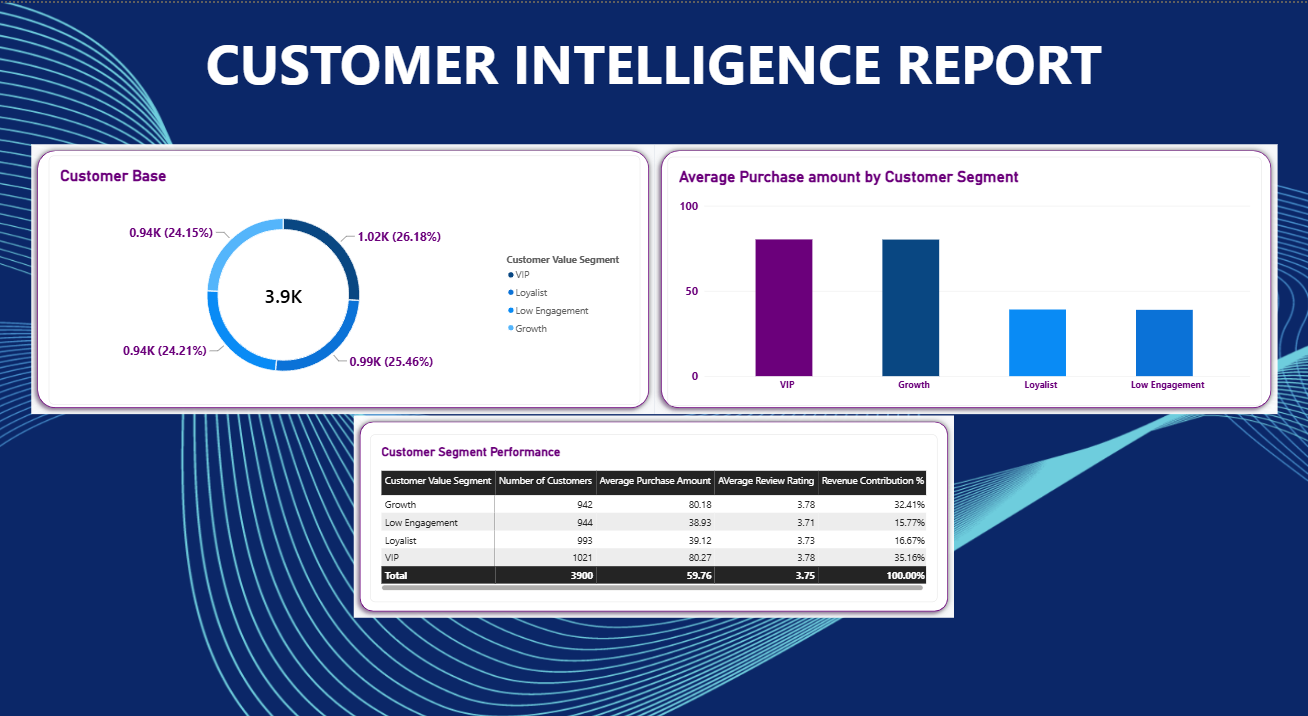

This screenshot's page, from the dashboard's own definition file:
{"tool":"powerbi","page":{"name":"Customer Intelligence","canvas":[1920,1080],"ordinal":1},"visuals":[{"type":"textbox","box":[0,32.5,1919.6,147.2],"z":1000},{"type":"shape","box":[960.9,207.8,913.3,396],"z":2000},{"type":"shape","box":[45.4,207.8,915.4,396],"z":4000},{"type":"clusteredColumnChart","title":"Average Purchase amount by Customer Segment","fields":{"Category":["public customer.Customer Value Segment"],"Y":["Avg(public customer.purchase_amount)"]},"box":[980.4,225.1,872.1,365.7],"z":5000},{"type":"shape","box":[519.4,606,880.8,296.5],"z":6000},{"type":"pivotTable","title":"Customer Segment Performance","fields":{"Rows":["public customer.Customer Value Segment"],"Values":["public customer.Number of Customers","public customer.Average Purchase Amount","public customer.AVerage Review Rating","public customer.Revenue Contribution %"]},"box":[543.2,631.9,833.2,246.7],"z":7000},{"type":"donutChart","title":"Customer Base","fields":{"Category":["public customer.Customer Value Segment"],"Y":["CountNonNull(public customer.customer_id)"]},"box":[71.4,222.9,867.8,365.7],"z":7001}]}

Visuals, with their boxes in screenshot pixels (x1, y1, x2, y2), scaled from the page's 1920x1080 canvas onto the 1308x716 screenshot:
textbox: left=0, top=22, right=1307, bottom=119
shape: left=655, top=138, right=1277, bottom=400
shape: left=31, top=138, right=655, bottom=400
"Average Purchase amount by Customer Segment" clusteredColumnChart: left=668, top=149, right=1262, bottom=392
shape: left=354, top=402, right=954, bottom=598
"Customer Segment Performance" pivotTable: left=370, top=419, right=938, bottom=582
"Customer Base" donutChart: left=49, top=148, right=640, bottom=390
